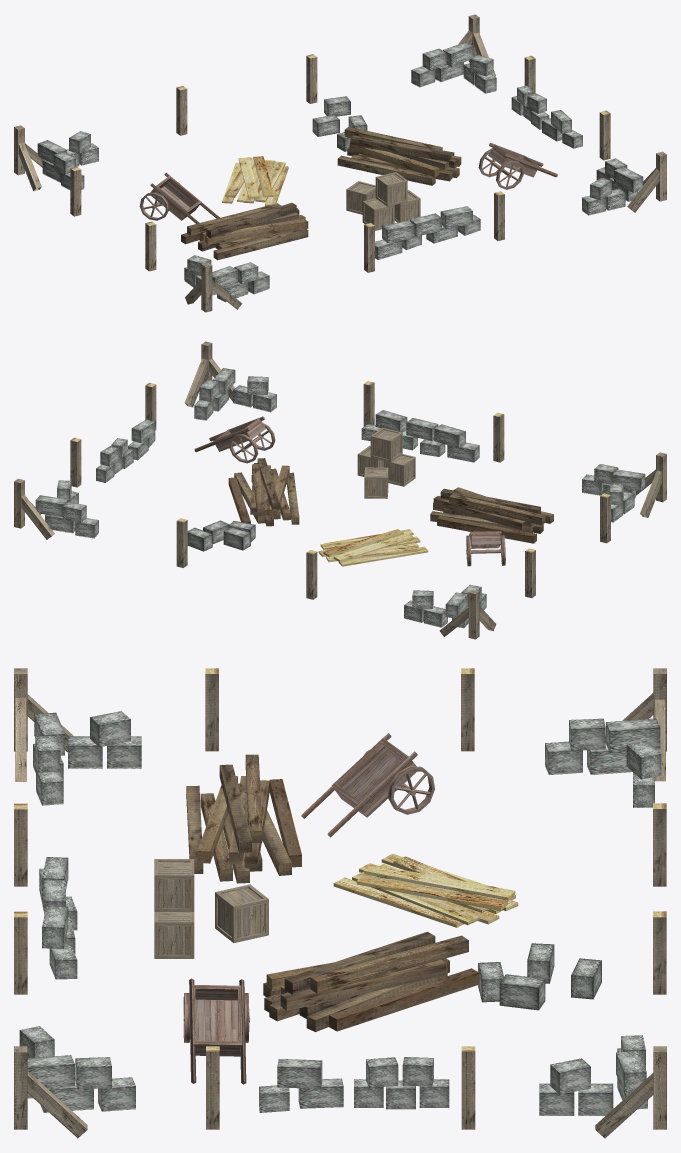
Rendered from fndn_7x5.glb.
The picture shows the model from 3 angles, top to bottom: view 1: azimuth 30°, elevation 25°; view 2: azimuth 150°, elevation 25°; view 3: azimuth 270°, elevation 25°; orthographic projection. The views are drawn at different scales.
Visible parts, largest first — view 1: fndn_7x5_part27, fndn_7x5_part26, fndn_7x5_part17, fndn_7x5_part13, fndn_7x5_part32, fndn_7x5_part16, fndn_7x5_part14, fndn_7x5_part15, fndn_7x5_part18, fndn_7x5_part25, fndn_7x5_part24, fndn_7x5_part3 (+16 smaller); view 2: fndn_7x5_part27, fndn_7x5_part26, fndn_7x5_part17, fndn_7x5_part32, fndn_7x5_part16, fndn_7x5_part13, fndn_7x5_part15, fndn_7x5_part14, fndn_7x5_part18, fndn_7x5_part24, fndn_7x5_part2, fndn_7x5_part1 (+17 smaller); view 3: fndn_7x5_part26, fndn_7x5_part27, fndn_7x5_part18, fndn_7x5_part32, fndn_7x5_part14, fndn_7x5_part15, fndn_7x5_part16, fndn_7x5_part25, fndn_7x5_part13, fndn_7x5_part24, fndn_7x5_part17, fndn_7x5_part19 (+18 smaller).
Part boxes in pixels (<box>): fndn_7x5_part27: <box>181,202,308,260</box>; fndn_7x5_part26: <box>337,127,461,185</box>; fndn_7x5_part17: <box>375,206,480,259</box>; fndn_7x5_part13: <box>411,42,496,93</box>; fndn_7x5_part32: <box>222,156,288,206</box>; fndn_7x5_part16: <box>582,158,643,215</box>; fndn_7x5_part14: <box>37,131,98,190</box>; fndn_7x5_part15: <box>184,255,269,302</box>; fndn_7x5_part18: <box>511,85,582,148</box>; fndn_7x5_part25: <box>139,172,219,223</box>; fndn_7x5_part24: <box>478,143,557,189</box>; fndn_7x5_part3: <box>185,262,242,312</box>; fndn_7x5_part27: <box>430,487,553,543</box>; fndn_7x5_part26: <box>228,458,299,526</box>; fndn_7x5_part17: <box>361,410,479,462</box>; fndn_7x5_part32: <box>318,529,428,566</box>; fndn_7x5_part16: <box>194,368,276,420</box>; fndn_7x5_part13: <box>35,480,98,538</box>; fndn_7x5_part15: <box>582,464,645,522</box>; fndn_7x5_part14: <box>404,584,486,628</box>; fndn_7x5_part18: <box>96,419,155,482</box>; fndn_7x5_part24: <box>194,416,275,463</box>; fndn_7x5_part2: <box>439,589,496,639</box>; fndn_7x5_part1: <box>14,478,54,539</box>; fndn_7x5_part26: <box>263,931,479,1031</box>; fndn_7x5_part27: <box>186,754,301,883</box>; fndn_7x5_part18: <box>259,1057,449,1112</box>; fndn_7x5_part32: <box>333,853,518,927</box>; fndn_7x5_part14: <box>545,718,661,807</box>; fndn_7x5_part15: <box>33,711,141,805</box>; fndn_7x5_part16: <box>19,1026,135,1112</box>; fndn_7x5_part25: <box>301,733,434,837</box>; fndn_7x5_part13: <box>539,1035,647,1115</box>; fndn_7x5_part24: <box>183,978,250,1084</box>; fndn_7x5_part17: <box>39,857,77,979</box>; fndn_7x5_part19: <box>215,884,268,942</box>.
Bounding box in the file's own units: 5.97 × 0.971 × 4.29.
Materials: 4 (4 with a texture image).
